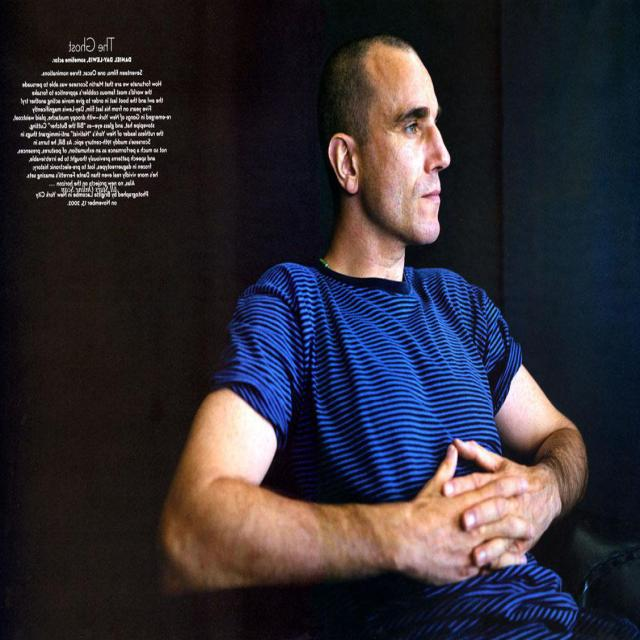no-earmuff: (322, 123, 367, 204)
